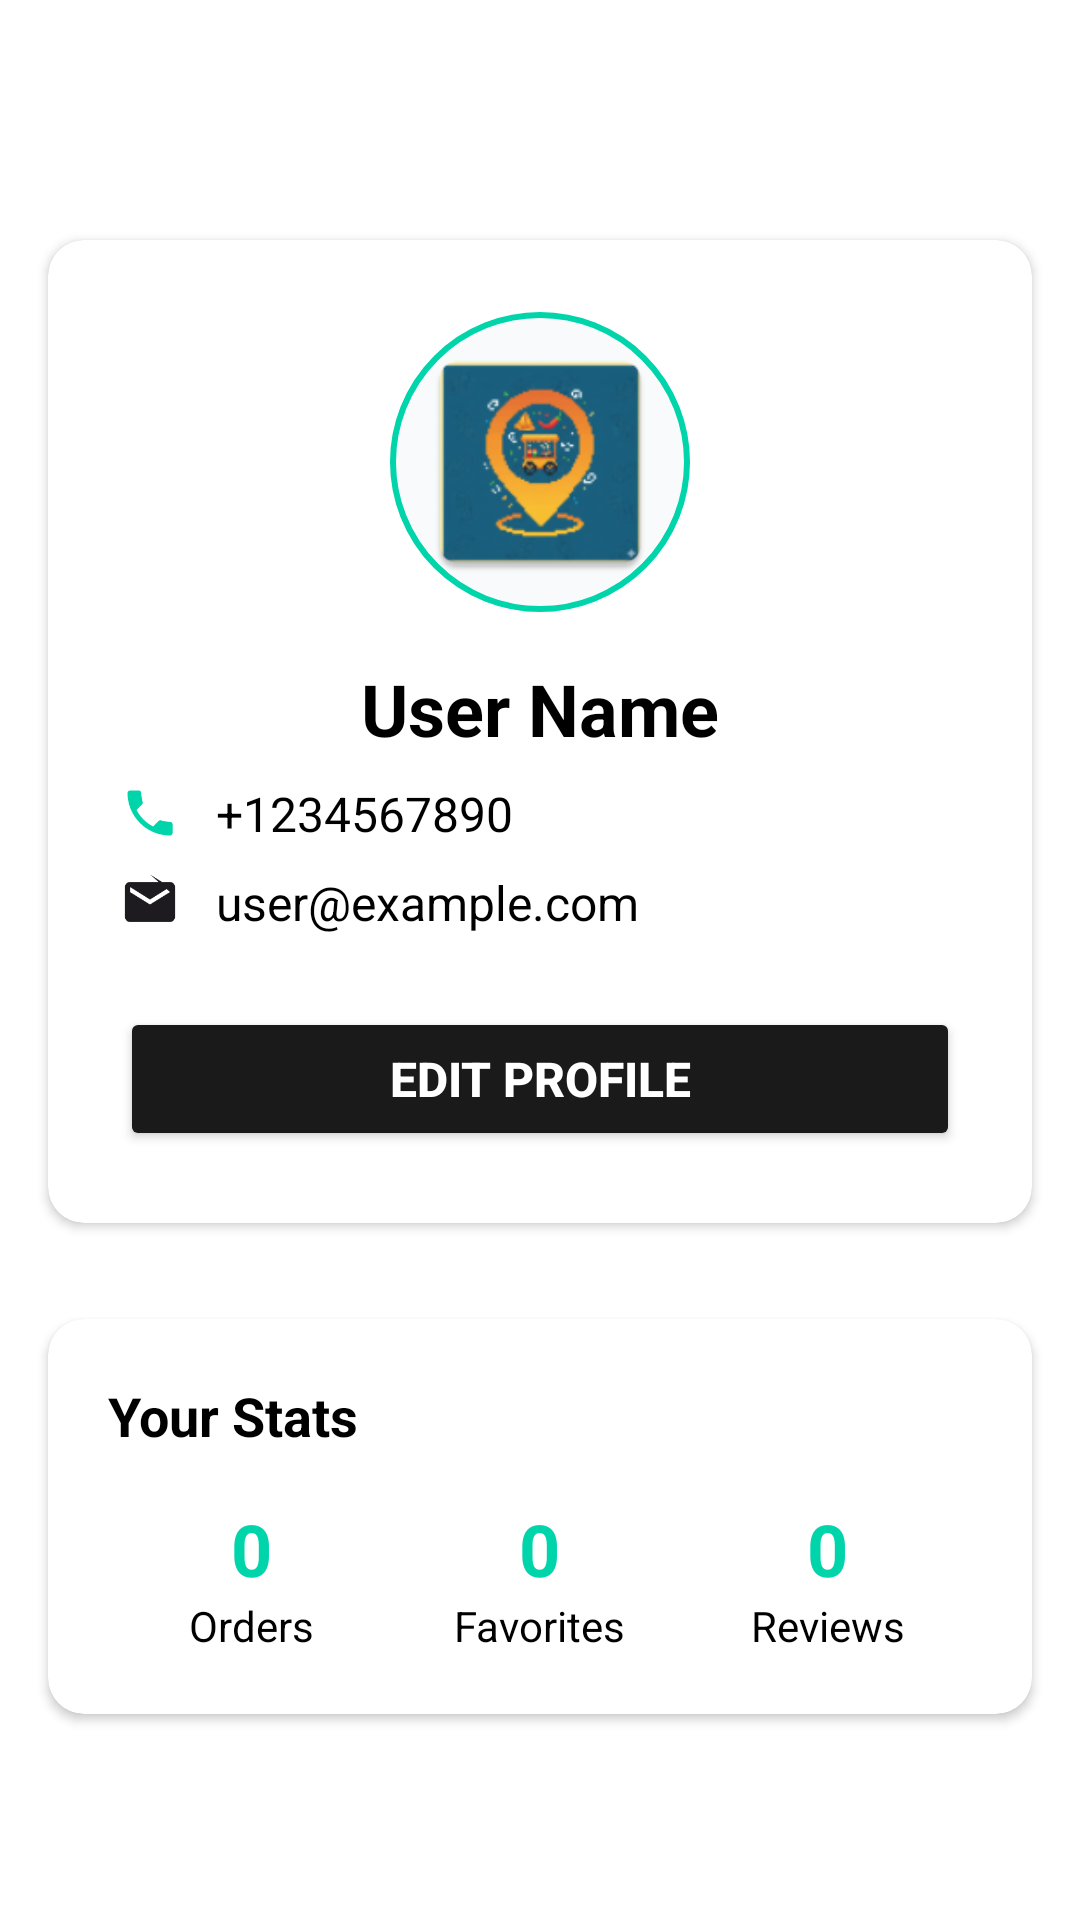

Screen size 1080x1920. Icon name, then its box in pixels as (x1, y1, x2, y2):
email: (125, 875, 175, 922)
phone: (127, 790, 173, 836)
